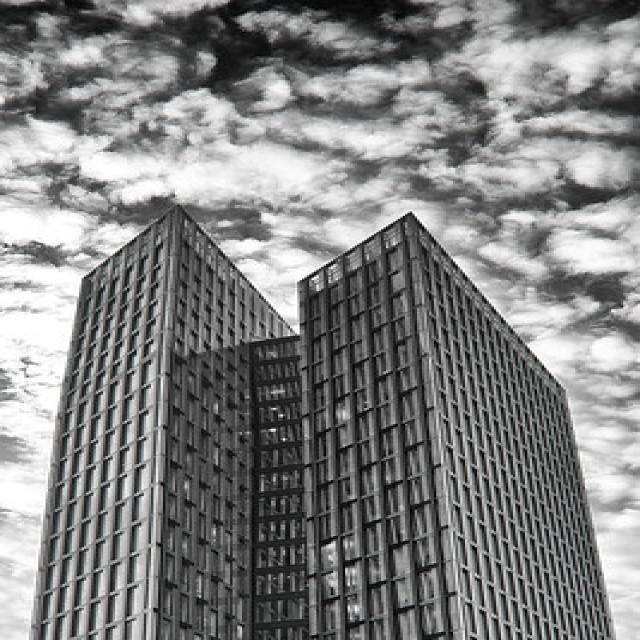building: (291, 206, 622, 640), (18, 203, 310, 640)
